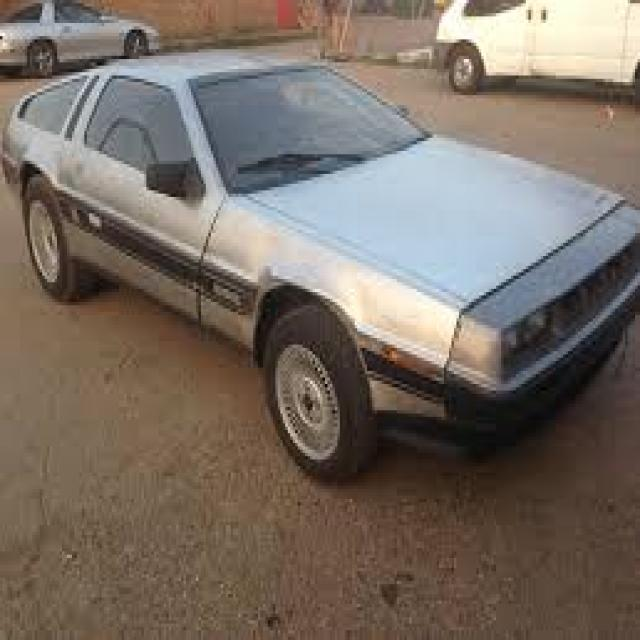minor: (252, 257, 287, 286)
